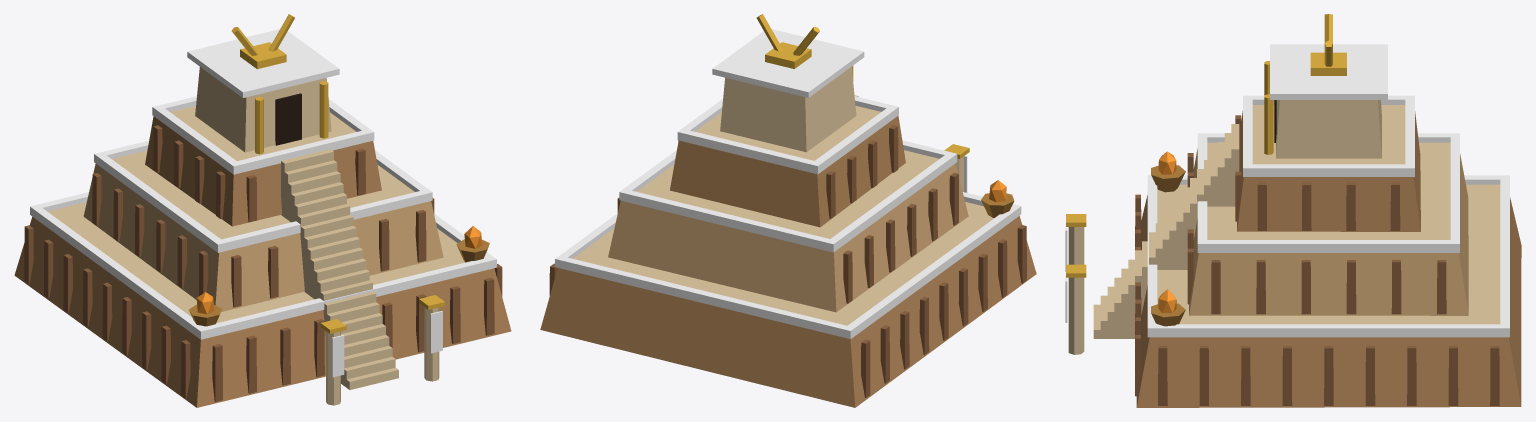
Rendered from temple.glb.
The picture shows the model from 3 angles, left to right: view 1: azimuth 30°, elevation 25°; view 2: azimuth 150°, elevation 25°; view 3: azimuth 270°, elevation 25°; orthographic projection. The views are drawn at different scales.
Visible parts, largest first — view 1: part, part.032, part.054, part.027, part.092, part.091, part.049, part.028, part.029, part.050, part.051, part.065 (+63 smaller); view 2: part, part.032, part.054, part.091, part.027, part.092, part.049, part.030, part.029, part.052, part.051, part.065 (+23 smaller); view 3: part, part.032, part.027, part.054, part.091, part.049, part.092, part.031, part.065, part.053, part.069, part.030 (+45 smaller).
Boxes of the visible parts, left/top/right/bottom form: part: left=14, top=217, right=511, bottom=407; part.032: left=83, top=164, right=443, bottom=311; part.054: left=145, top=116, right=381, bottom=226; part.027: left=47, top=202, right=464, bottom=323; part.092: left=187, top=29, right=339, bottom=97; part.091: left=195, top=67, right=331, bottom=152; part.049: left=112, top=150, right=414, bottom=239; part.028: left=197, top=258, right=496, bottom=339; part.029: left=30, top=204, right=203, bottom=339; part.050: left=213, top=191, right=426, bottom=252; part.051: left=94, top=152, right=225, bottom=252; part.065: left=170, top=106, right=356, bottom=160; part: left=540, top=216, right=1036, bottom=407; part.032: left=608, top=163, right=968, bottom=312; part.054: left=670, top=116, right=905, bottom=227; part.091: left=720, top=67, right=856, bottom=152; part.027: left=573, top=202, right=994, bottom=325; part.092: left=712, top=29, right=864, bottom=97; part.049: left=637, top=150, right=939, bottom=238; part.030: left=555, top=257, right=850, bottom=338; part.029: left=843, top=204, right=1021, bottom=338; part.052: left=620, top=189, right=837, bottom=251; part.051: left=825, top=152, right=955, bottom=252; part.065: left=695, top=106, right=880, bottom=160; part: left=1136, top=195, right=1521, bottom=407; part.032: left=1189, top=148, right=1468, bottom=315; part.027: left=1157, top=184, right=1500, bottom=324; part.054: left=1237, top=111, right=1420, bottom=231; part.091: left=1276, top=100, right=1381, bottom=158; part.049: left=1207, top=142, right=1450, bottom=239; part.092: left=1270, top=44, right=1387, bottom=99; part.031: left=1147, top=324, right=1509, bottom=337; part.065: left=1252, top=105, right=1405, bottom=164; part.053: left=1201, top=240, right=1457, bottom=252; part.069: left=1243, top=164, right=1414, bottom=176; part.030: left=1500, top=175, right=1509, bottom=337.
Bounding box in the file's own units: 8.05 × 6.87 × 9.47.
